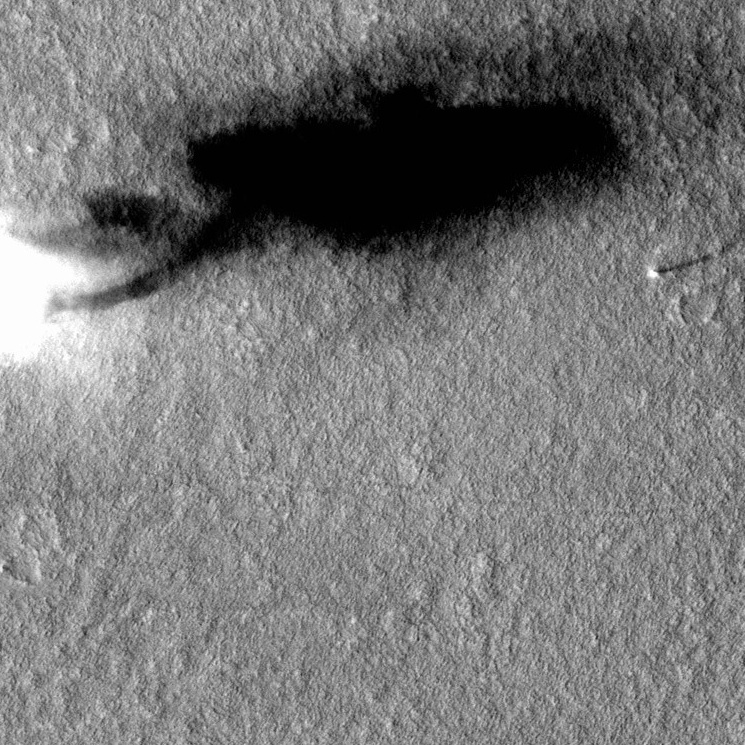dust_devil: (1, 28, 720, 373), (645, 241, 740, 284)
